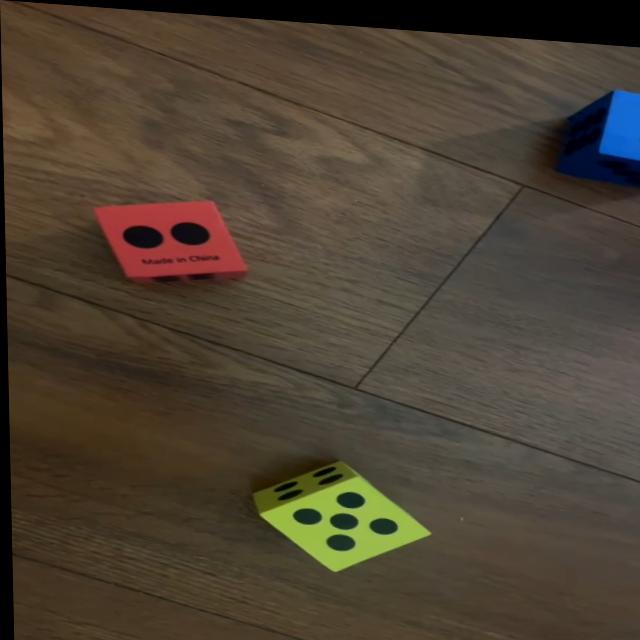cube: (93, 190, 247, 287), (559, 74, 640, 178)
